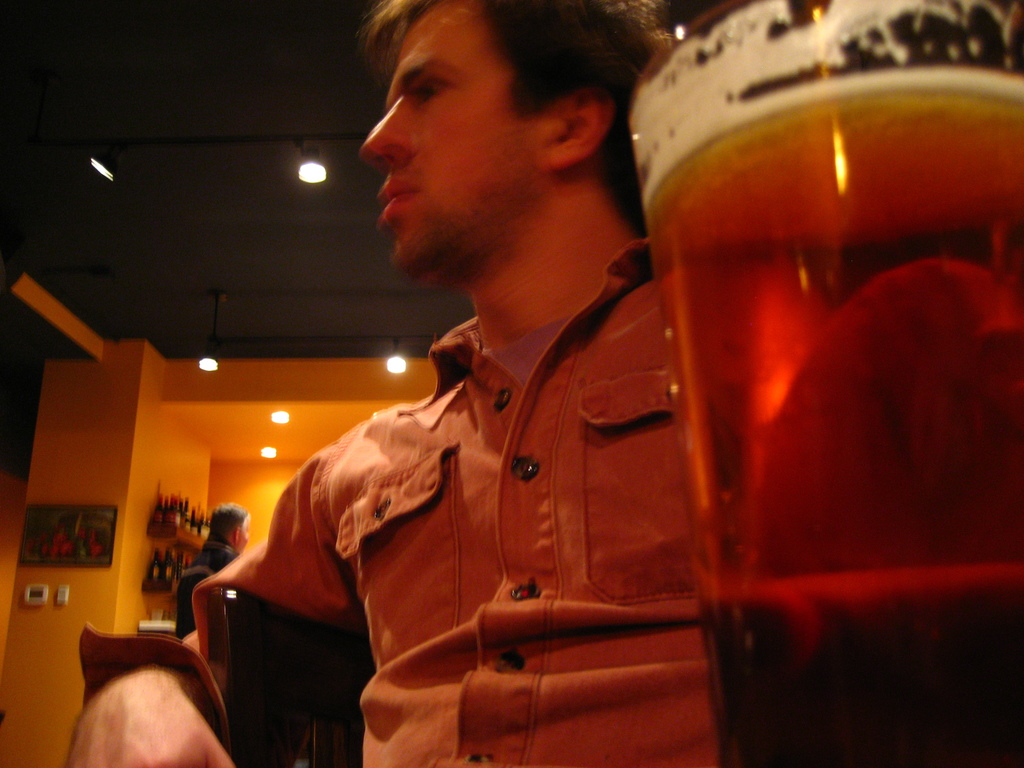Beer: (614, 0, 1023, 767)
